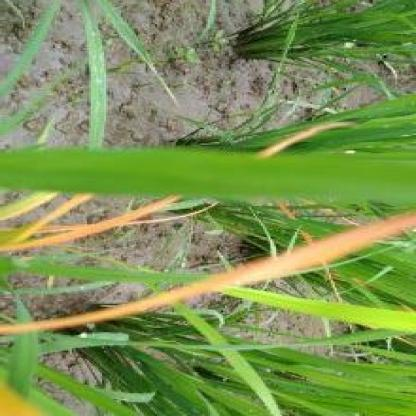Tungro: (1, 213, 415, 334)
